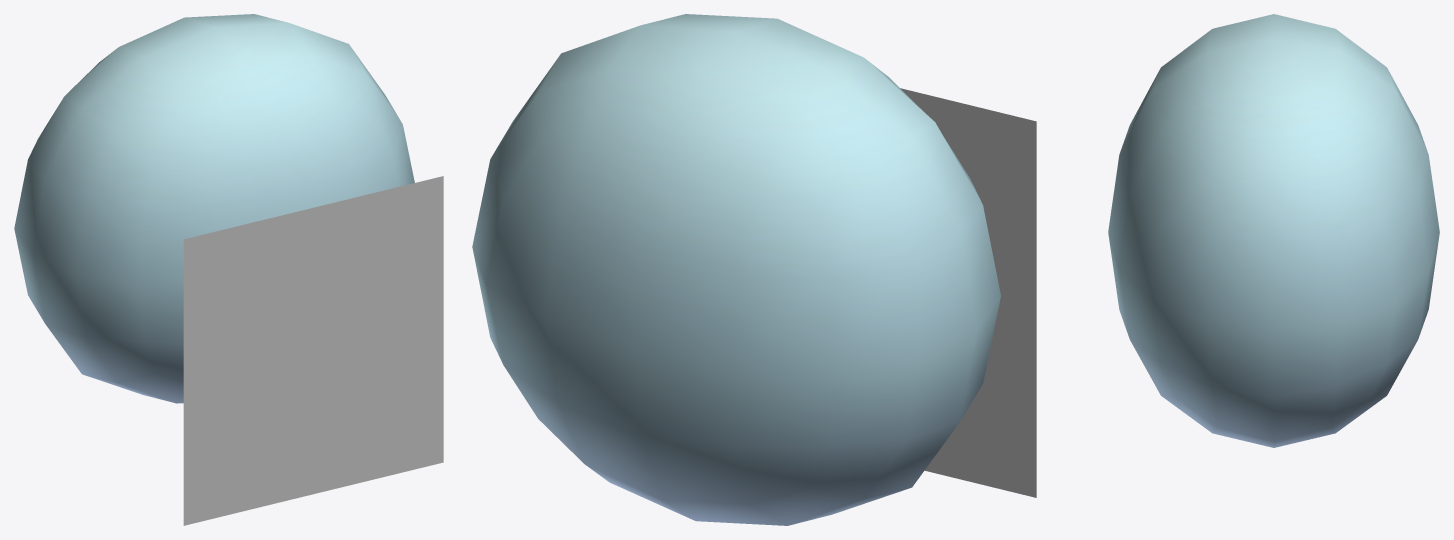
Rendered from Blob_Blue.fbx.
3 renders of one model, left to right at view 1: azimuth 30°, elevation 25°; view 2: azimuth 150°, elevation 25°; view 3: azimuth 270°, elevation 25°, orthographic. The views are drawn at different scales.
Parts seen in each view (by area): view 1: Blob_Blue, Eyes_Blue; view 2: Blob_Blue, Eyes_Blue; view 3: Blob_Blue.
Boxes of the visible parts, x1,y1,x2,y2 form: Blob_Blue: (14, 14, 414, 403); Eyes_Blue: (183, 176, 443, 525); Blob_Blue: (472, 14, 1000, 525); Eyes_Blue: (900, 88, 1036, 497); Blob_Blue: (1108, 14, 1439, 447).
Size of the model in its own units: 1.12 by 1.16 by 0.9382.
